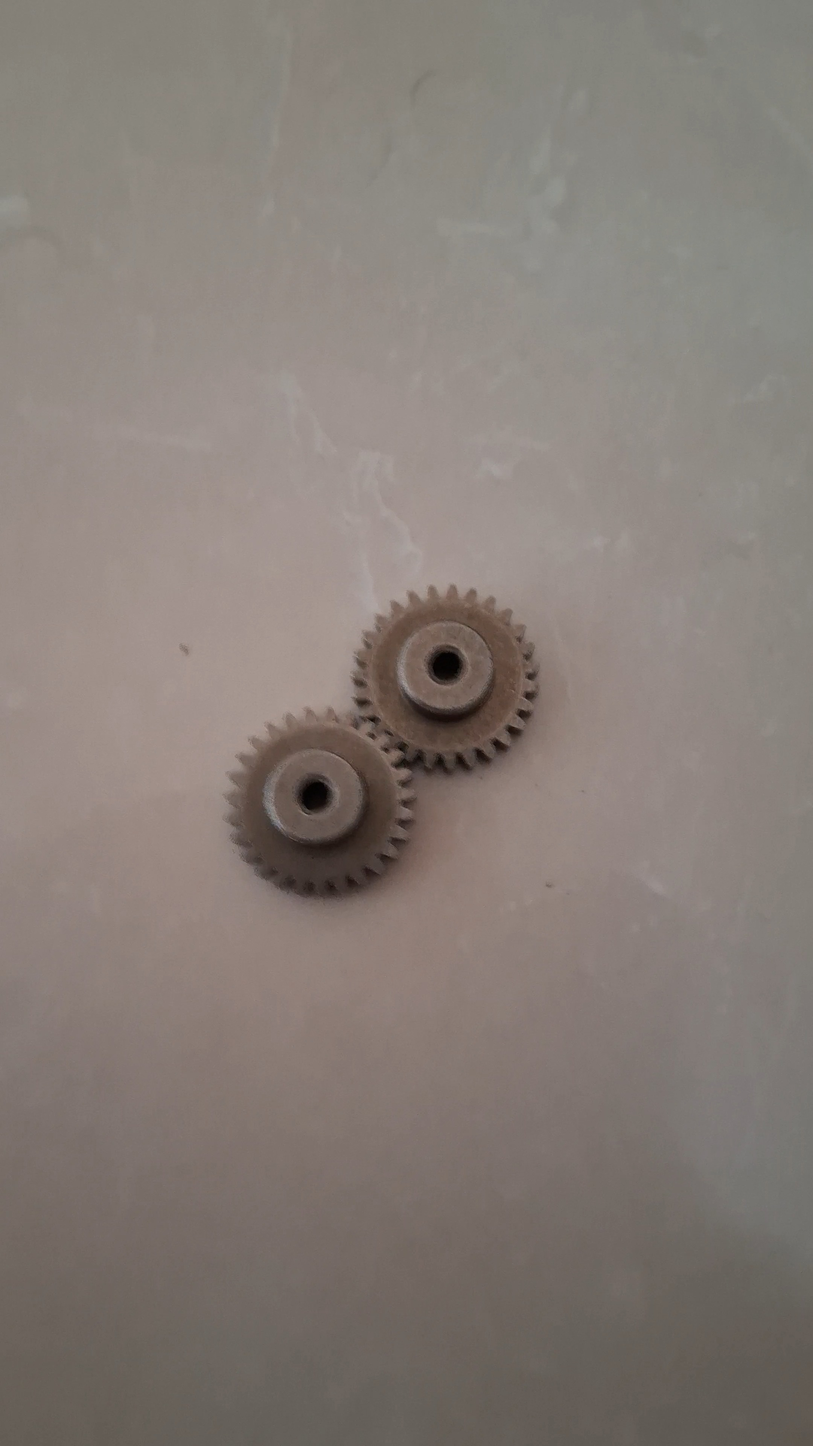spur gear: (235, 724, 420, 910), (357, 598, 540, 779)
